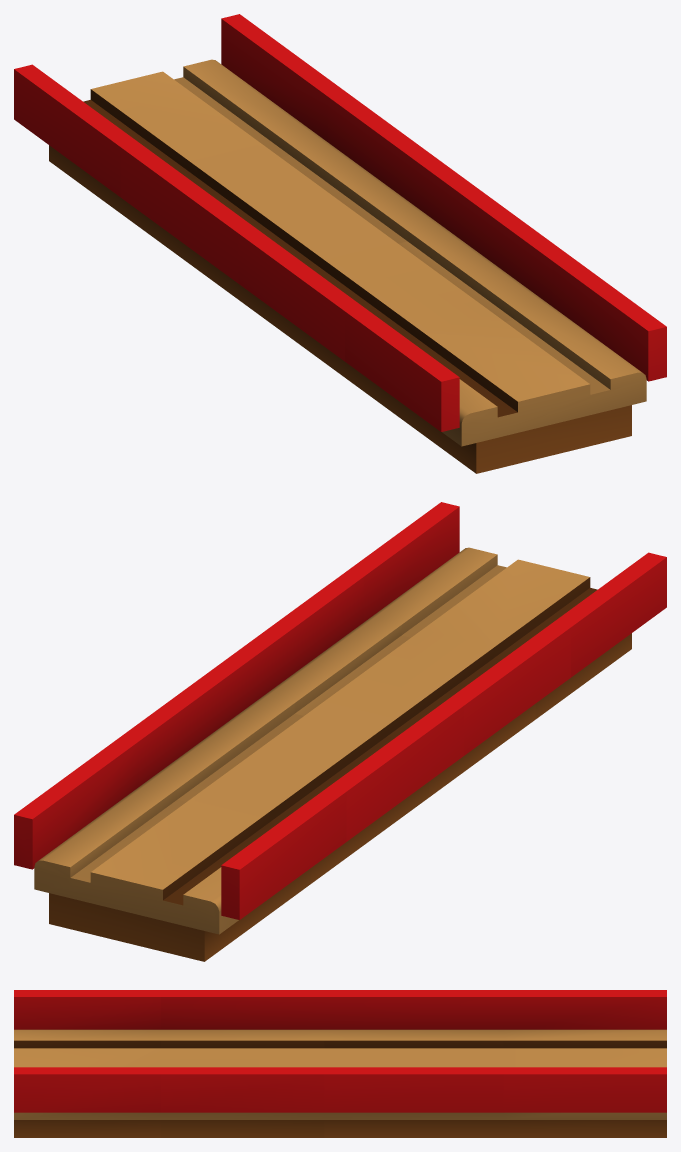
Rendered from ElevatedStraight.fbx.
The picture shows the model from 3 angles, top to bottom: view 1: azimuth 30°, elevation 25°; view 2: azimuth 150°, elevation 25°; view 3: azimuth 270°, elevation 25°; orthographic projection. The views are drawn at different scales.
Visible parts, largest first — view 1: ElevatedStraight; view 2: ElevatedStraight; view 3: ElevatedStraight.
Part boxes in pixels (x1,y1,x2,y2): ElevatedStraight: [14, 14, 666, 473]; ElevatedStraight: [14, 502, 666, 961]; ElevatedStraight: [14, 990, 666, 1137].
Size of the model in its own units: 1.22 by 0.52 by 4.
